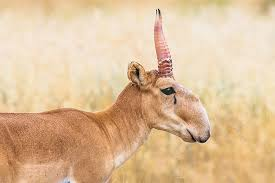saiga: (1, 8, 214, 183)
